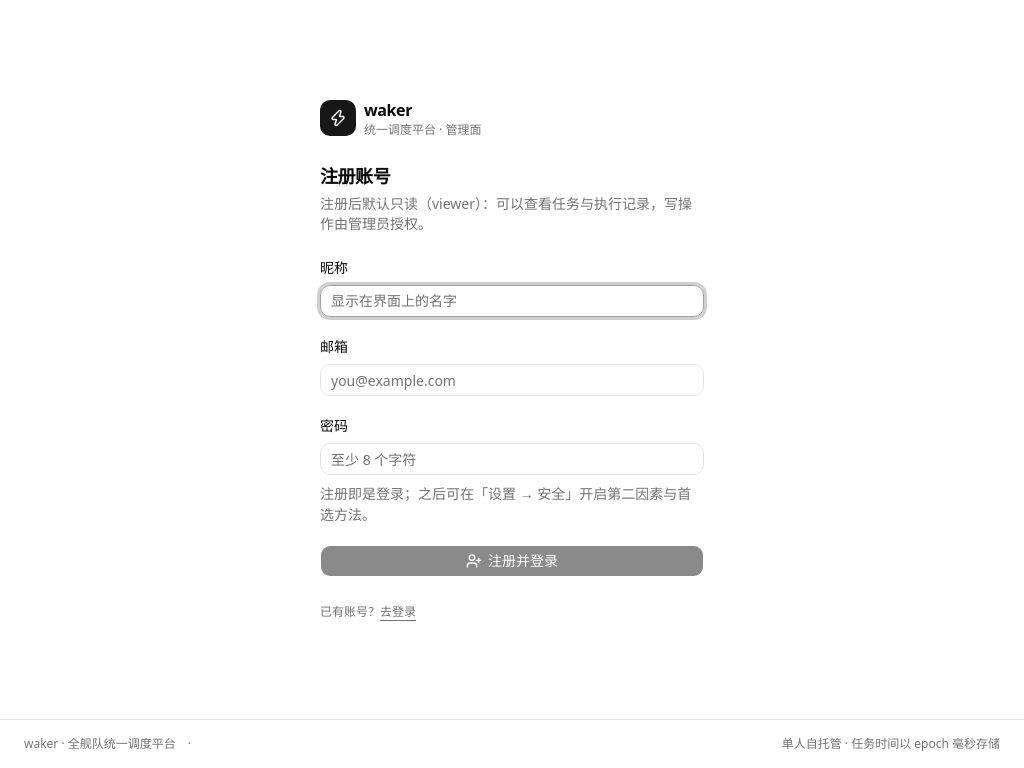
Scenario: 注册页 › 注册被后端关闭（403 registration_closed）：明确提示并刷新开关状态
Type "新人" into the field labelled "昵称".
click(512, 301); type("新人")  # box top-left (320, 285), bottom-right (704, 317)
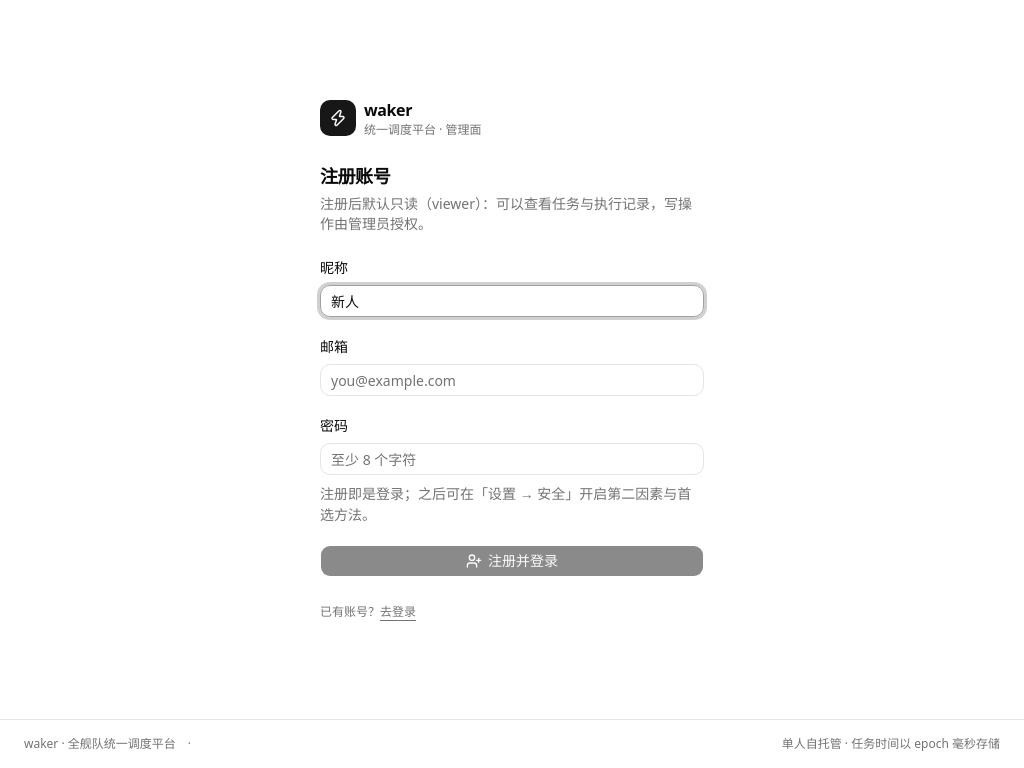
Type "new@example.com" into the field labelled "邮箱".
click(512, 380); type("new@example.com")  # box top-left (320, 364), bottom-right (704, 396)
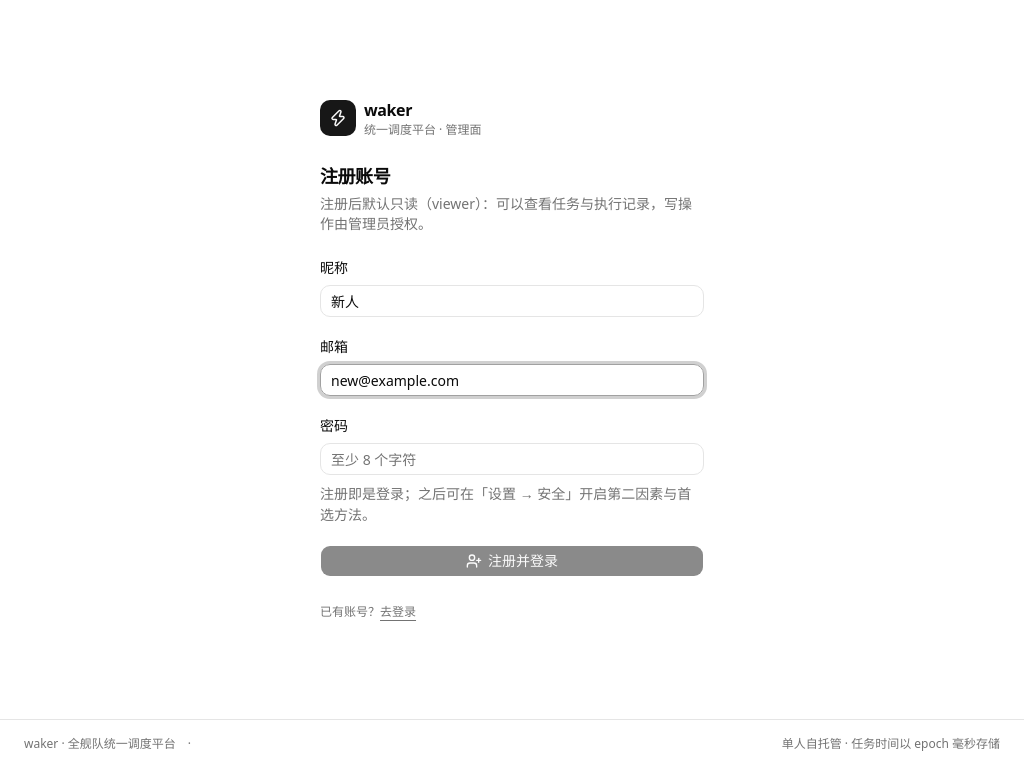
Type "brand-new-pass" into the password field labelled "密码".
click(512, 459); type("brand-new-pass")  # box top-left (320, 443), bottom-right (704, 475)
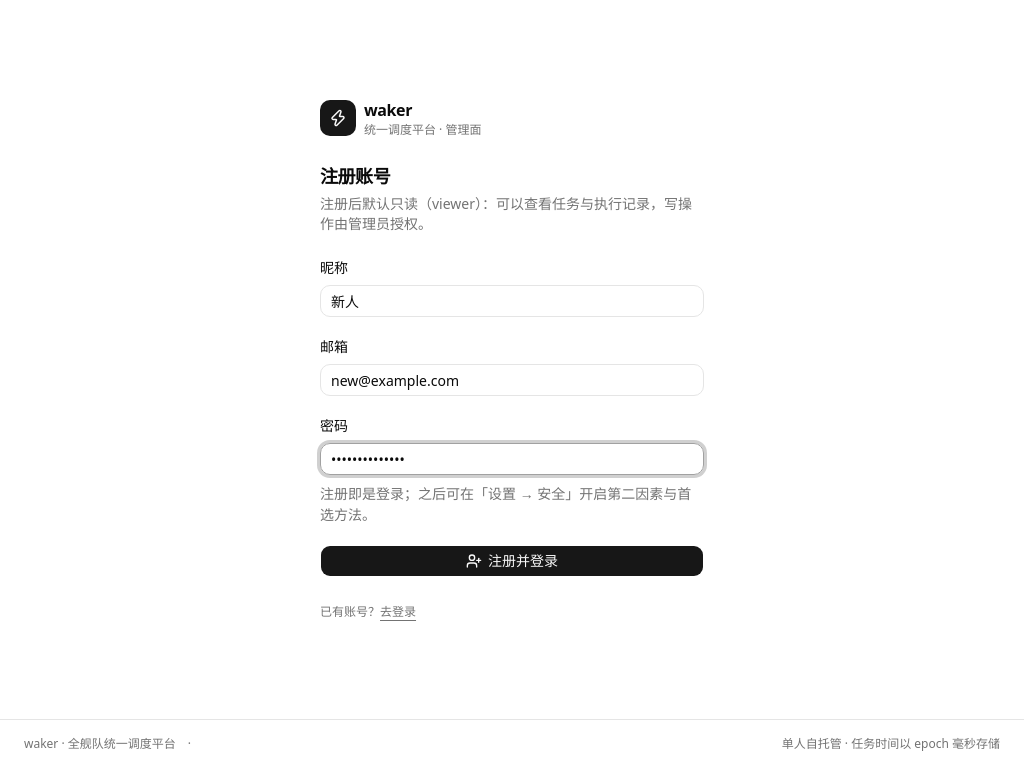
Click the button "注册并登录".
click(512, 561)  # box top-left (320, 545), bottom-right (704, 577)
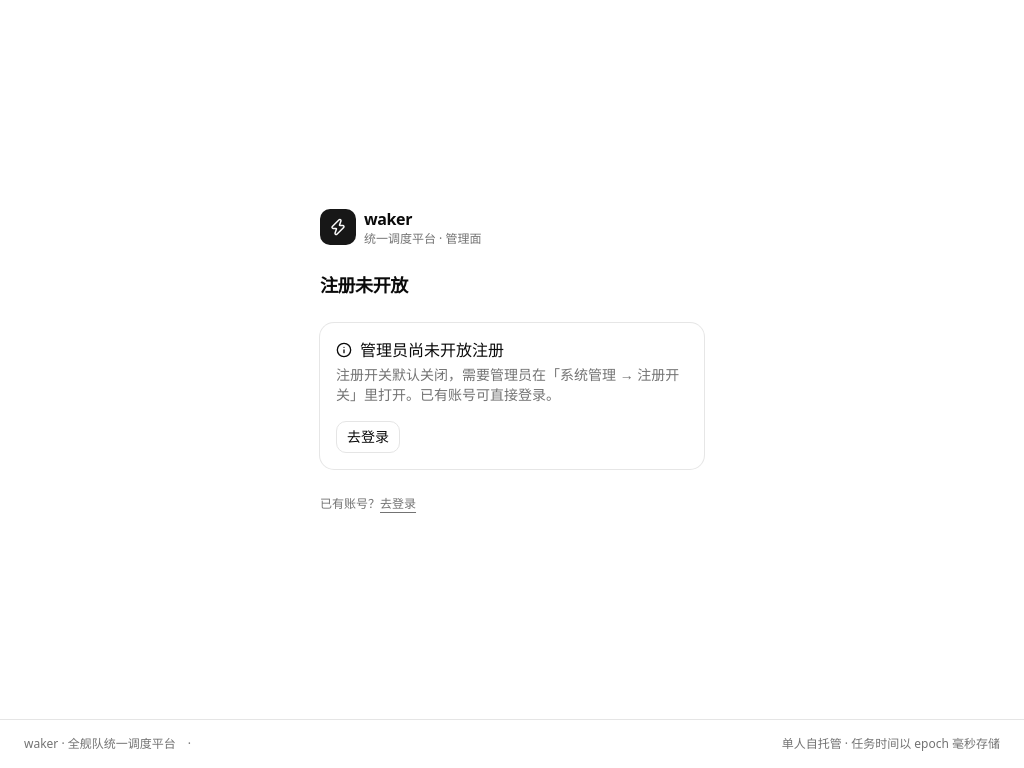
Check: the text "管理员尚未开放注册" is shown, box top-left (336, 338), bottom-right (504, 360)
Check: the label labelled "密码" is gone
